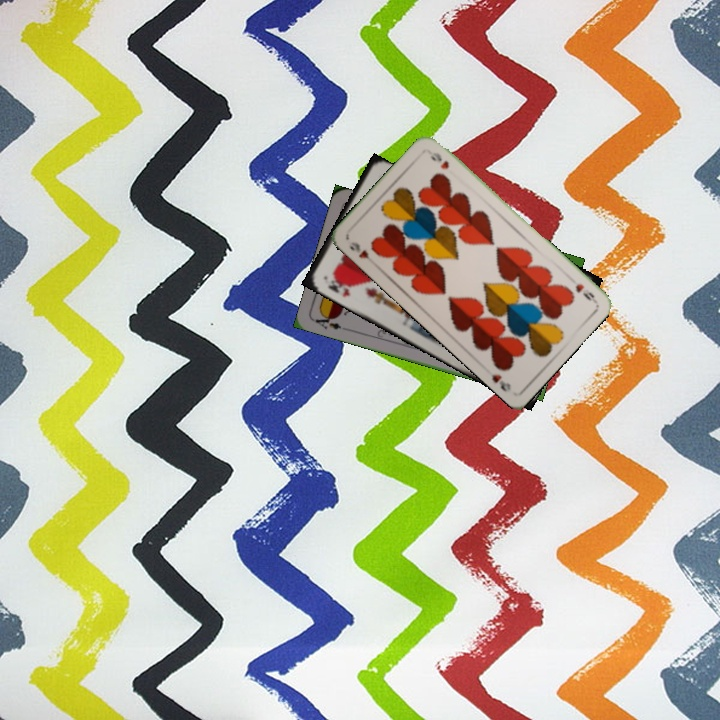EA: (310, 309, 350, 333)
H9: (345, 238, 377, 267), (571, 279, 599, 305)
HK: (323, 274, 353, 300)
